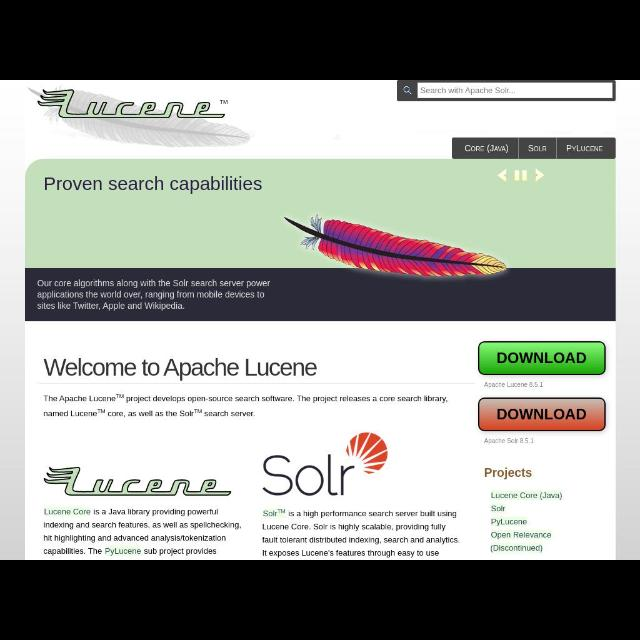icon: (514, 170, 528, 182), (497, 170, 507, 182), (536, 168, 544, 182), (403, 86, 412, 94)
image: (284, 213, 508, 277), (26, 85, 250, 147), (264, 432, 388, 496), (45, 466, 232, 496)
input: (418, 82, 612, 98)
multitab: (452, 138, 616, 158)
panel: (397, 80, 616, 102)
text: (43, 394, 449, 418), (262, 509, 460, 558), (44, 508, 240, 556), (37, 279, 271, 311), (42, 358, 318, 382), (46, 176, 262, 194), (498, 352, 586, 364), (498, 408, 586, 420), (490, 492, 562, 501), (484, 468, 532, 480), (420, 88, 516, 94), (464, 144, 508, 154), (490, 544, 542, 552), (484, 382, 544, 388), (491, 532, 551, 538), (566, 144, 604, 152), (484, 438, 534, 444), (491, 518, 527, 526), (529, 144, 547, 152), (491, 504, 505, 512)
textbutton: (478, 341, 606, 375), (478, 398, 606, 432)
